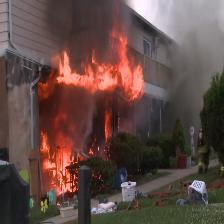fire: (25, 33, 172, 206)
smoke: (56, 0, 224, 77)
